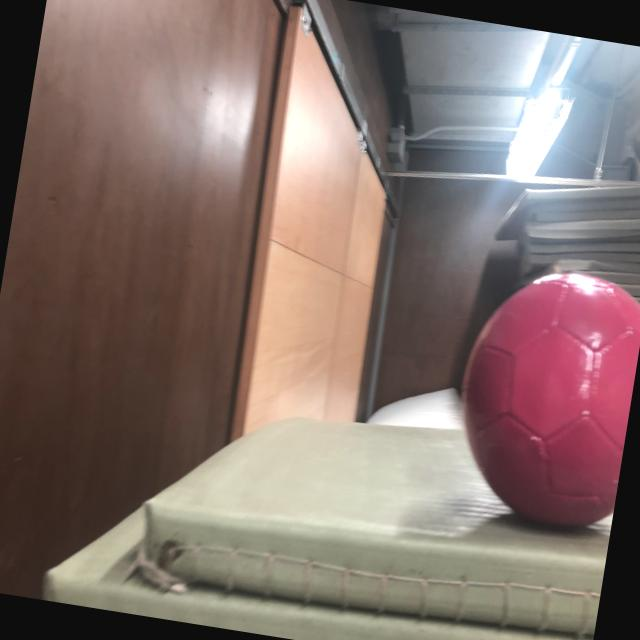red_ball: (442, 257, 640, 540)
